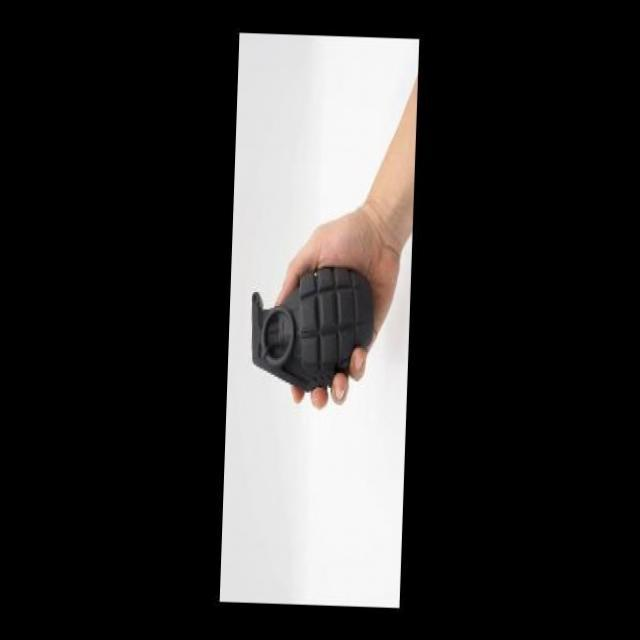grenade: (243, 259, 387, 405)
